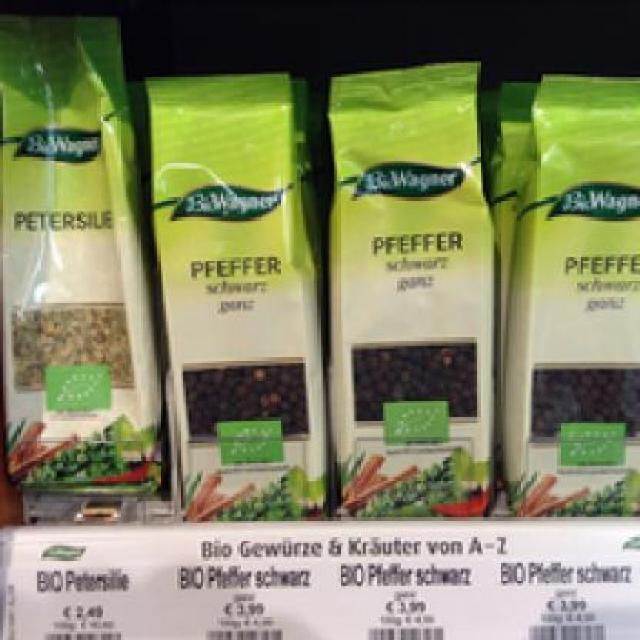Spices: (137, 66, 323, 514), (323, 51, 494, 512), (0, 12, 160, 494), (497, 74, 637, 512)
